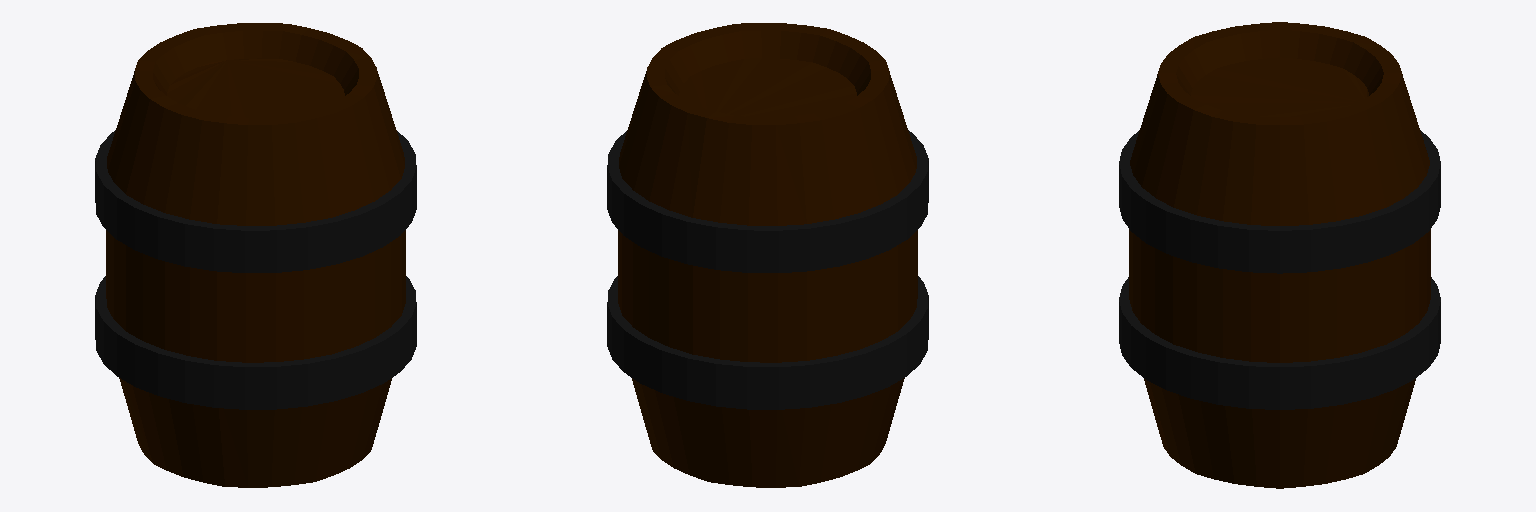
Rendered from barrel.obj.
3 views of the same model, side by side, from view 1: azimuth 30°, elevation 25°; view 2: azimuth 150°, elevation 25°; view 3: azimuth 270°, elevation 25° (orthographic).
Parts seen in each view (by area): view 1: Cylinder, Cylinder.001, Cylinder.002; view 2: Cylinder, Cylinder.001, Cylinder.002; view 3: Cylinder, Cylinder.001, Cylinder.002.
Boxes of the visible parts, box(x1,y1,x2,y2) form: Cylinder: box(106, 23, 405, 487); Cylinder.001: box(95, 130, 416, 272); Cylinder.002: box(95, 276, 416, 409); Cylinder: box(618, 23, 917, 487); Cylinder.001: box(607, 130, 928, 272); Cylinder.002: box(607, 276, 928, 409); Cylinder: box(1129, 22, 1430, 488); Cylinder.001: box(1119, 130, 1440, 273); Cylinder.002: box(1119, 277, 1440, 409).
Size of the model in its own units: 2.15 by 2.68 by 2.15.